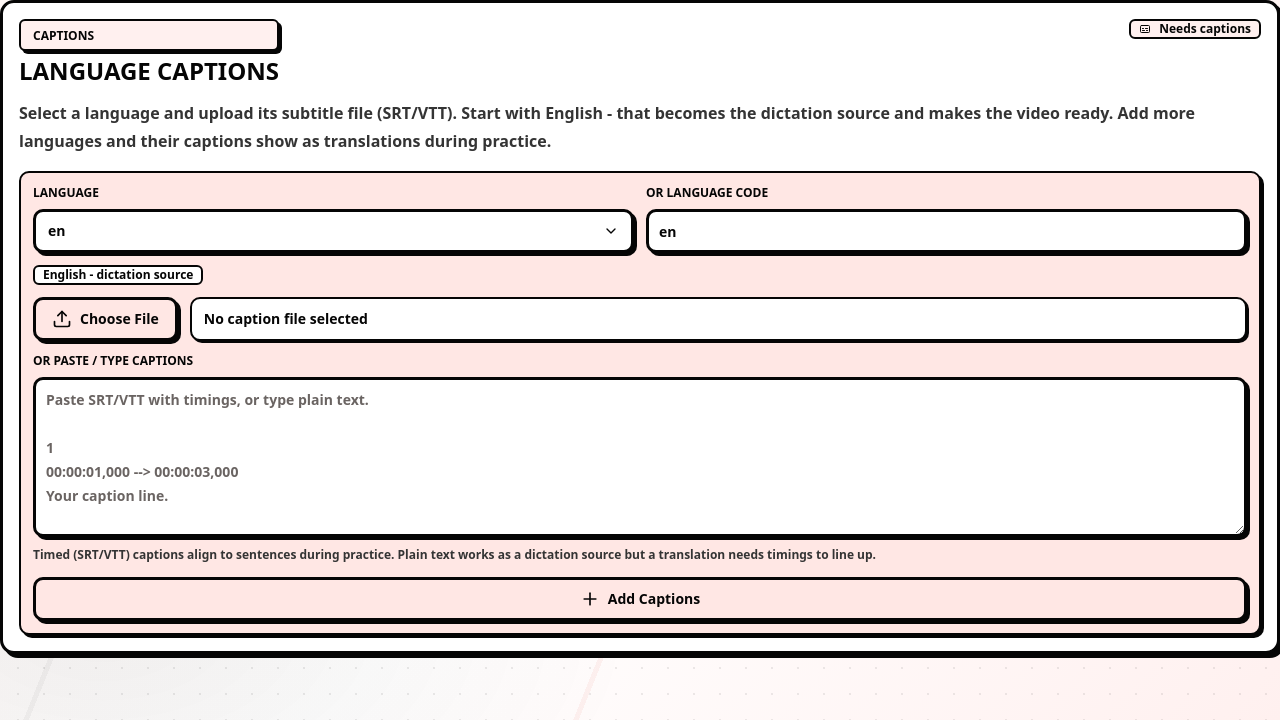
Test case: DictationCaptionManager › rejects an invalid language code
Replace the text in the field with placeholder "e.g. en, ja, pt-br" with "123" at (946, 231), box [646,209,1247,253]
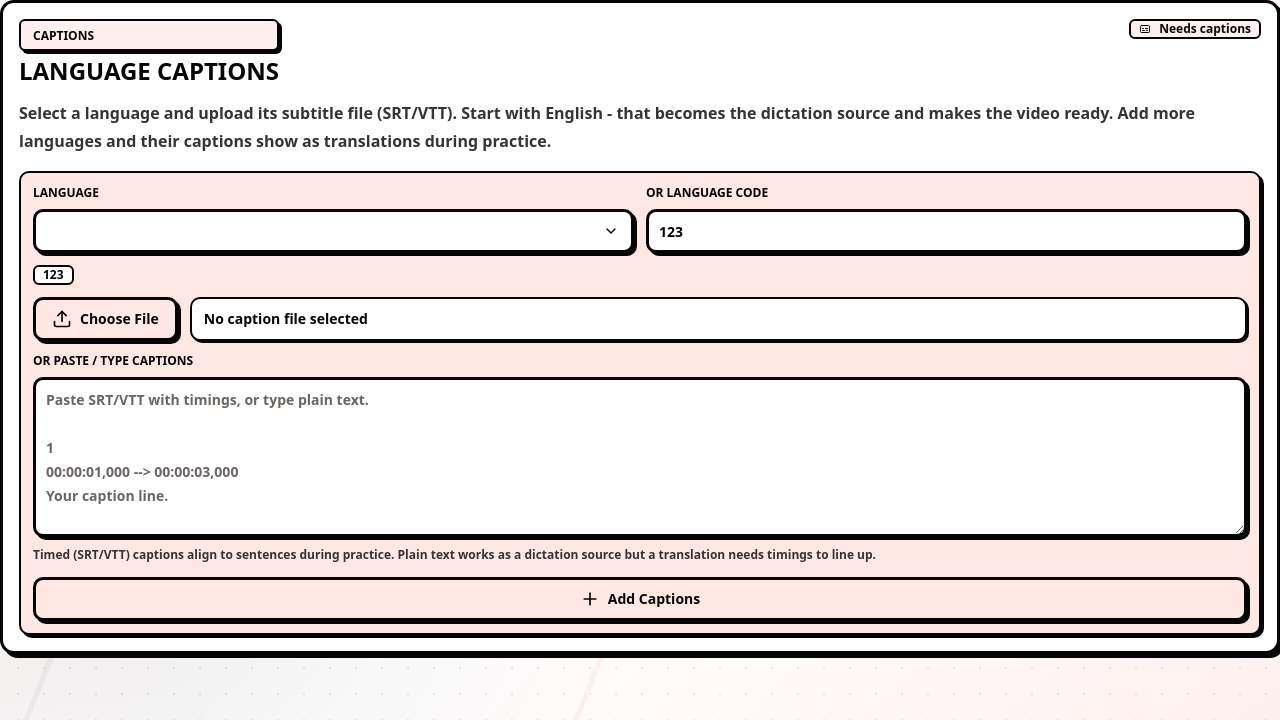
Click the button "Add Captions".
click(640, 599)  # box [33,577,1247,621]
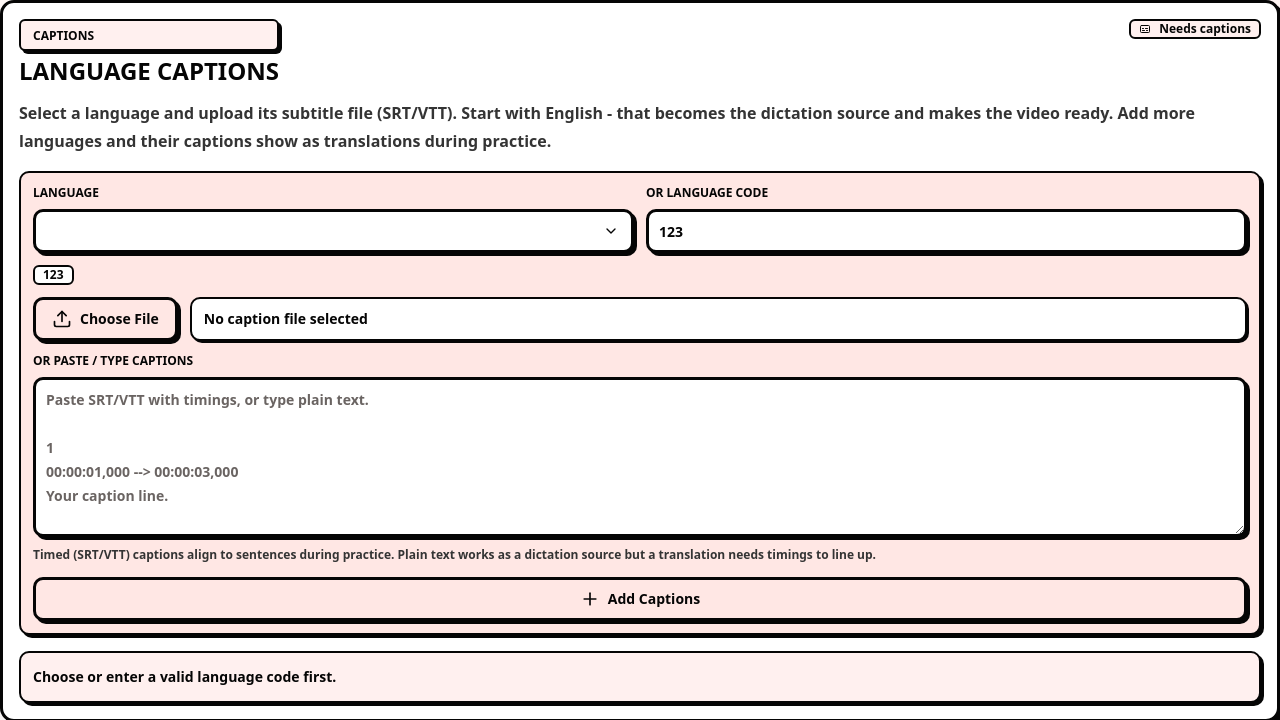
expect the text "Choose or enter a valid language code first." is shown: met, box [19,651,1261,703]
